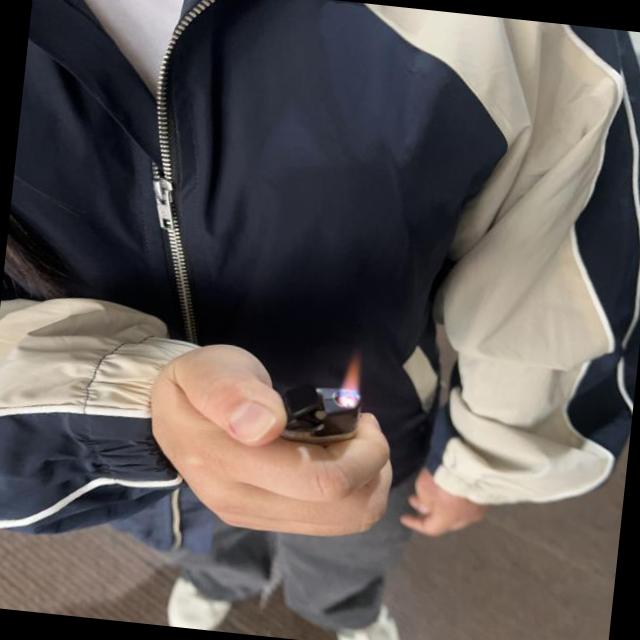Fire: (340, 356, 364, 396)
